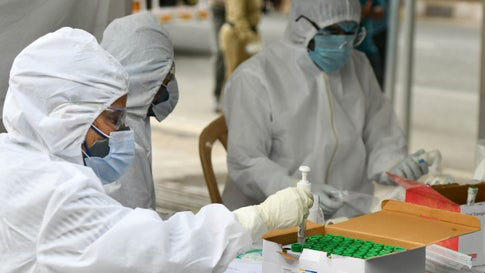Coverall: (1, 25, 247, 273), (224, 2, 405, 192), (100, 12, 179, 210)
Gloves: (260, 182, 315, 231), (390, 149, 430, 182), (313, 183, 343, 217)
Goggles: (316, 24, 367, 48), (101, 106, 132, 128)
with_mask: (79, 124, 136, 182), (309, 34, 355, 73), (149, 69, 179, 122)
